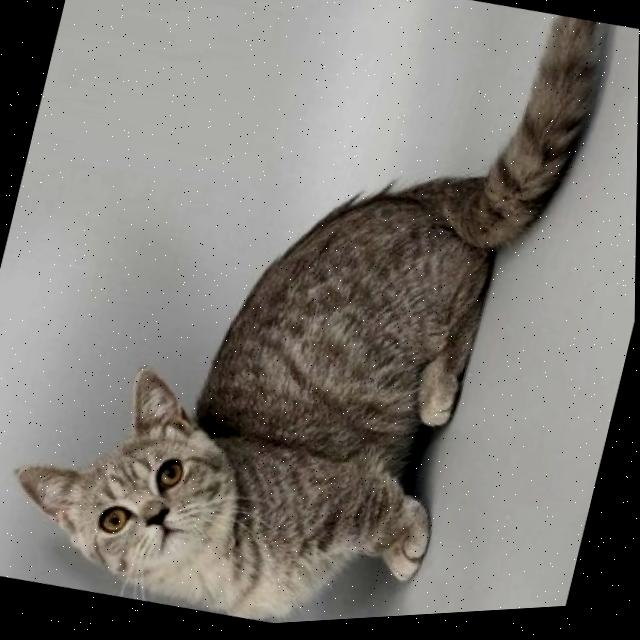Munchkin: (0, 0, 615, 640)
